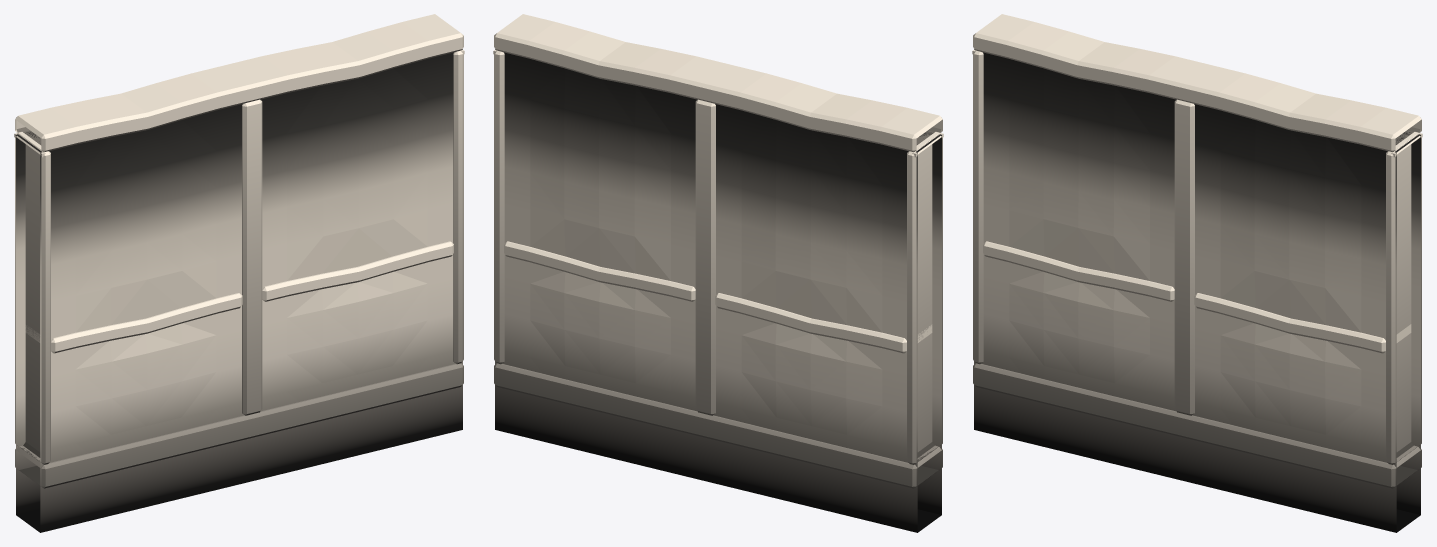
Rendered from SM_VKI_Wall_Wattle_Plain_300_Full.fbx.
3 views of the same model, side by side, from view 1: azimuth 30°, elevation 25°; view 2: azimuth 150°, elevation 25°; view 3: azimuth 330°, elevation 25° (orthographic).
Parts seen in each view (by area): view 1: SM_VKI_Wall_Wattle_Plain_300_Full.001; view 2: SM_VKI_Wall_Wattle_Plain_300_Full.001; view 3: SM_VKI_Wall_Wattle_Plain_300_Full.001.
Boxes of the visible parts, x1,y1,x2,y2 form: SM_VKI_Wall_Wattle_Plain_300_Full.001: (14,14,464,532); SM_VKI_Wall_Wattle_Plain_300_Full.001: (493,14,943,532); SM_VKI_Wall_Wattle_Plain_300_Full.001: (972,14,1422,532).
Bounding box in the file's own units: 3 × 2.7 × 0.36.
